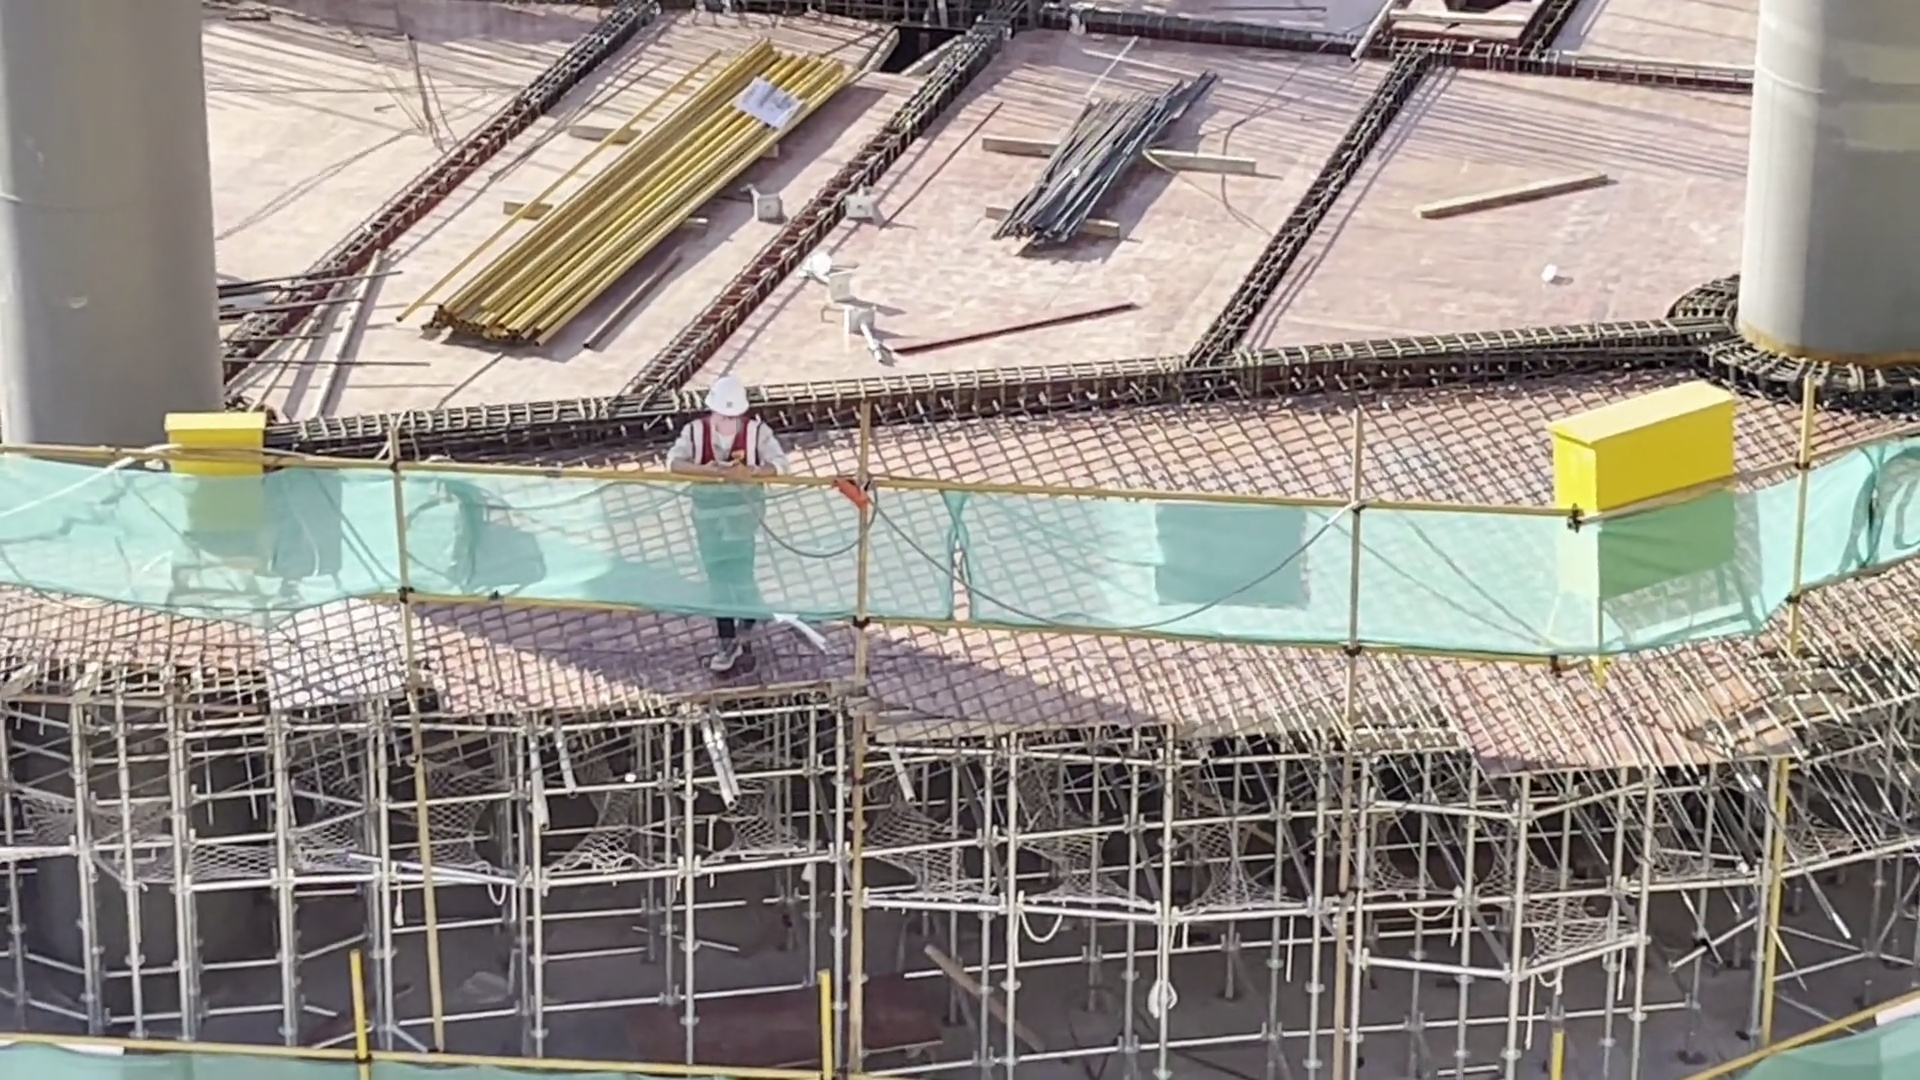ebox: (1533, 378, 1743, 586), (167, 402, 271, 575)
helmet: (711, 381, 749, 415)
person: (666, 369, 777, 676)
vest: (693, 419, 760, 545)
